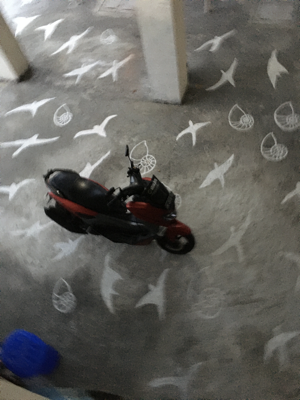moto: (43, 149, 194, 264)
